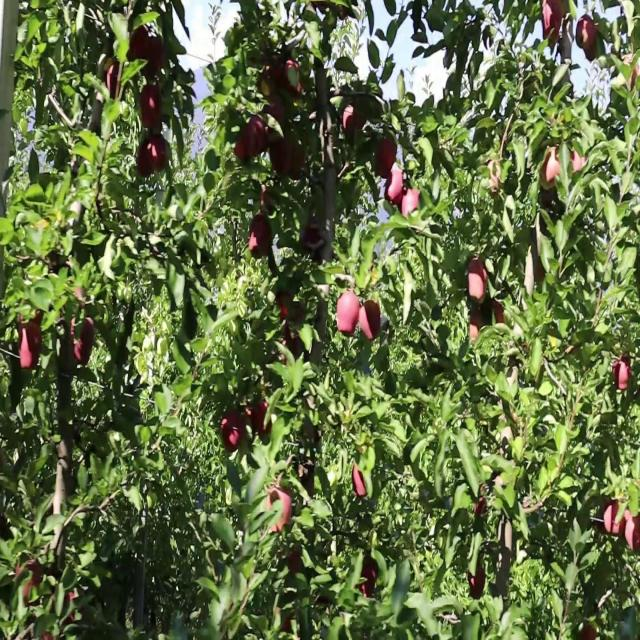apple: (272, 135, 304, 180), (68, 319, 96, 368), (16, 561, 43, 608), (268, 483, 292, 533), (140, 85, 165, 133), (248, 213, 273, 261), (20, 312, 44, 359), (220, 412, 246, 455), (336, 291, 360, 336), (272, 135, 295, 180), (20, 327, 43, 372), (360, 298, 383, 341), (376, 135, 399, 178), (604, 504, 630, 540), (244, 120, 268, 158), (544, 0, 565, 43), (128, 28, 151, 66), (140, 142, 164, 178), (540, 149, 562, 188), (284, 63, 304, 105), (576, 14, 599, 50), (468, 263, 488, 304), (260, 63, 283, 98), (384, 170, 406, 206), (280, 334, 303, 368), (64, 590, 84, 626), (344, 106, 365, 139), (360, 561, 379, 597), (152, 135, 169, 174), (256, 398, 272, 439), (292, 142, 308, 183), (148, 42, 166, 78), (268, 92, 288, 123), (276, 291, 294, 324), (468, 568, 487, 599), (20, 341, 39, 372), (612, 362, 632, 391), (136, 142, 152, 178), (300, 227, 322, 252), (108, 63, 122, 101), (624, 56, 640, 87), (404, 191, 421, 220), (352, 469, 368, 498), (276, 604, 292, 633), (488, 163, 501, 197), (472, 490, 487, 519), (236, 135, 251, 164), (628, 519, 640, 555), (572, 149, 588, 174), (260, 184, 273, 212), (472, 312, 484, 341), (492, 305, 506, 327), (288, 554, 302, 576), (584, 42, 597, 64), (580, 625, 597, 639)
